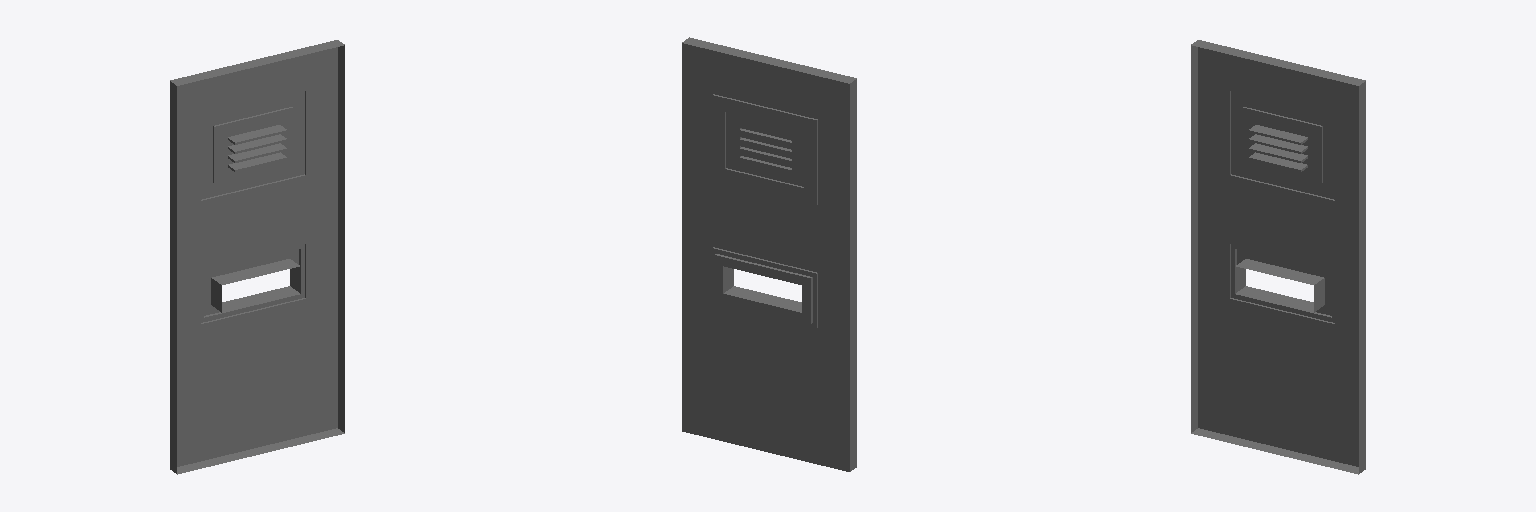
Rendered from Door.obj.
3 views of the same model, side by side, from view 1: azimuth 30°, elevation 25°; view 2: azimuth 150°, elevation 25°; view 3: azimuth 330°, elevation 25° (orthographic).
Parts seen in each view (by area): view 1: object_11; view 2: object_11; view 3: object_11.
Boxes of the visible parts, box(x1,y1,x2,y2) form: object_11: box(170, 40, 344, 474); object_11: box(682, 37, 856, 471); object_11: box(1191, 40, 1365, 474).
Bounding box in the file's own units: 38.5 × 85 × 4.2.